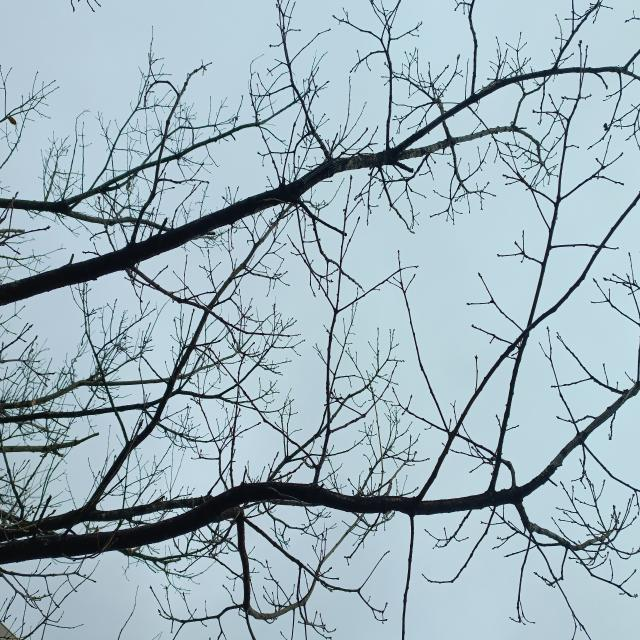Branch: (0, 138, 456, 306), (0, 481, 523, 564), (0, 499, 96, 543)
Twig: (91, 204, 292, 507), (393, 0, 640, 150), (520, 382, 640, 497), (219, 505, 304, 612), (515, 503, 615, 551), (454, 125, 548, 171), (95, 495, 215, 522)
